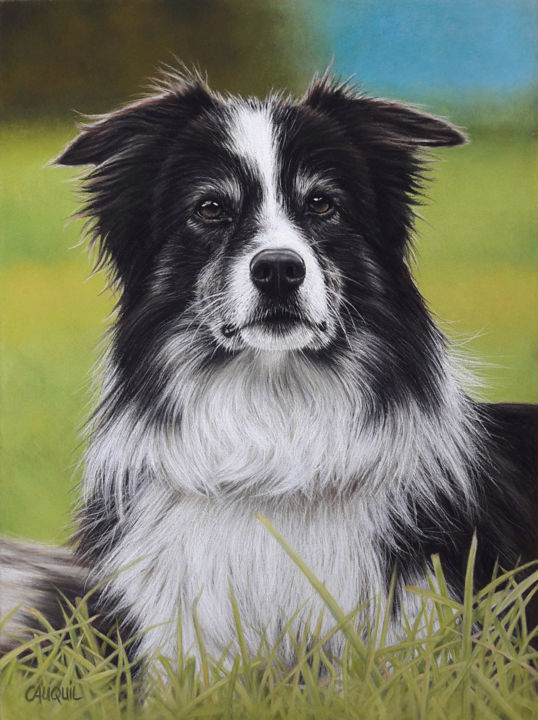dog: (90, 33, 421, 665)
